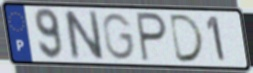1: (204, 15, 227, 65)
9: (33, 7, 66, 63)
D: (168, 13, 207, 64)
G: (100, 11, 137, 61)
N: (61, 9, 106, 62)
P: (135, 10, 169, 64)
